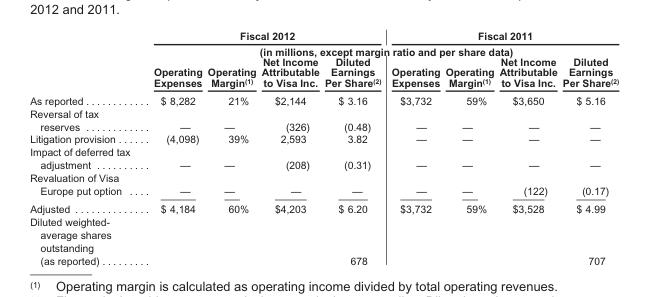table: (29, 29, 618, 266)
table column: (29, 29, 141, 266), (321, 29, 385, 266), (141, 29, 204, 266), (258, 29, 321, 266), (496, 29, 559, 266), (559, 29, 618, 266), (385, 29, 442, 266), (204, 29, 258, 266), (442, 29, 496, 266)
table column header: (29, 29, 618, 90)
table row: (29, 215, 618, 266), (29, 56, 618, 90), (29, 171, 618, 199), (29, 106, 618, 132), (29, 145, 618, 171), (29, 90, 618, 106), (29, 199, 618, 215), (29, 29, 618, 43), (29, 43, 618, 56), (29, 132, 618, 145)
table spanning cell: (141, 43, 618, 56), (141, 29, 385, 43), (385, 29, 618, 43)
